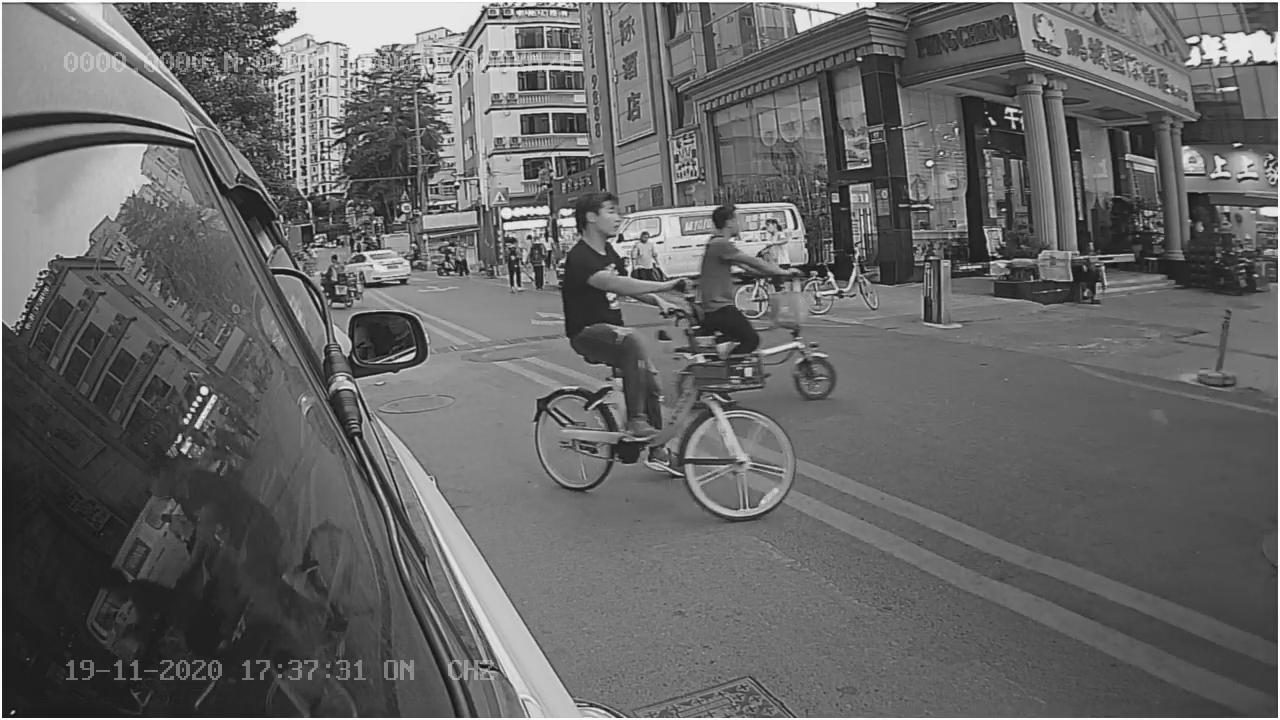person: (558, 194, 658, 368)
